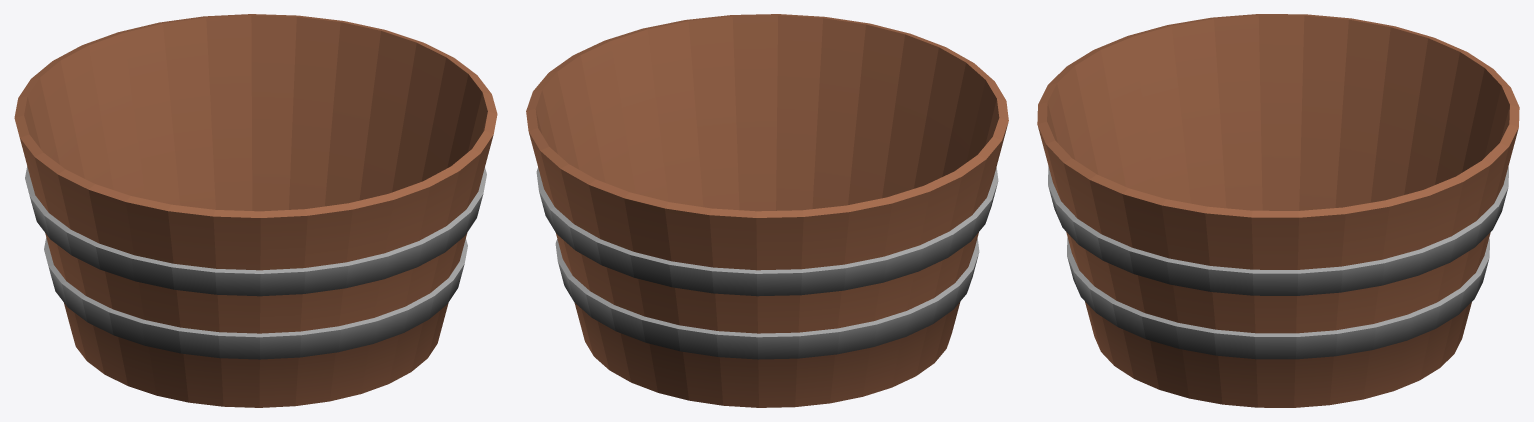
File: Large Light Wooden Bucket.fbx
3 renders of one model, left to right at view 1: azimuth 30°, elevation 25°; view 2: azimuth 150°, elevation 25°; view 3: azimuth 270°, elevation 25°, orthographic.
Visible parts, largest first — view 1: Large Light Wooden Tub/Bucket; view 2: Large Light Wooden Tub/Bucket; view 3: Large Light Wooden Tub/Bucket.
Boxes of the visible parts, box(x1,y1,x2,y2) form: Large Light Wooden Tub/Bucket: box(14, 14, 497, 407); Large Light Wooden Tub/Bucket: box(526, 14, 1008, 407); Large Light Wooden Tub/Bucket: box(1037, 14, 1519, 407).
Bounding box in the file's own units: 205 × 413 × 413.
1 material, 1 textured.
